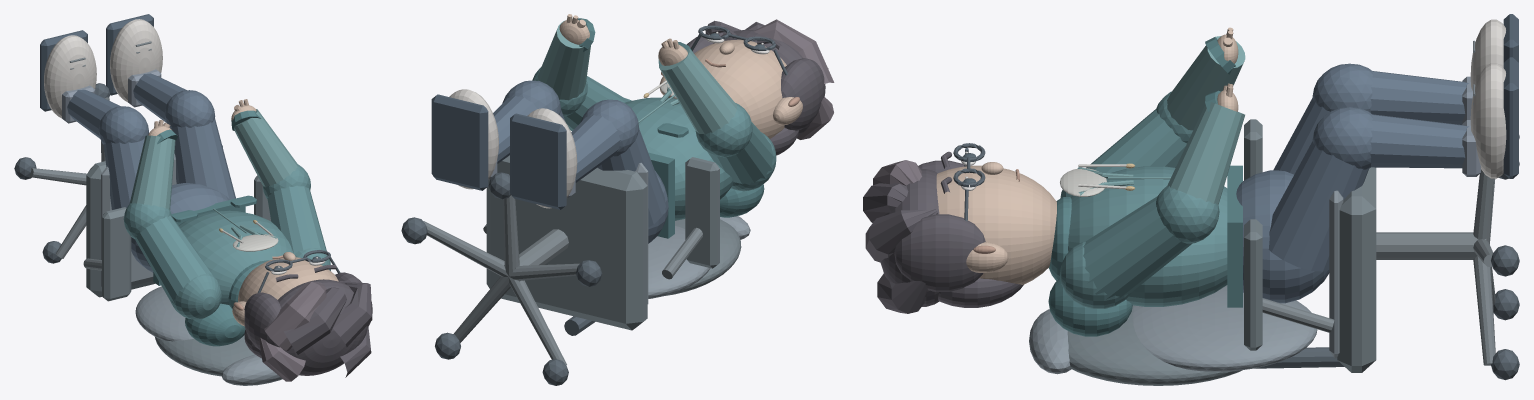
Rendered from 03_developer_typing.glb.
3 views of the same model, side by side, from view 1: azimuth 30°, elevation 25°; view 2: azimuth 150°, elevation 25°; view 3: azimuth 270°, elevation 25° (orthographic). The views are drawn at different scales.
Visible parts, largest first — view 1: 0022__hoodie_main_torso, 0089__sleeve_upper, 0078__jeans_thigh, 0072__sneaker, 0082__sneaker, 0098__sleeve_upper, 0100__sleeve_forearm, 0091__sleeve_forearm, 0019__armrest_cushion, 0044__hair_crown, 0015__backrest_upper, 0039__face_head (+32 smaller); view 2: 0011__chair_base_seat, 0083__rubber_sole, 0073__rubber_sole, 0039__face_head, 0022__hoodie_main_torso, 0091__sleeve_forearm, 0019__armrest_cushion, 0100__sleeve_forearm, 0014__lumbar_support, 0046__temple_side, 0070__jeans_shin, 0089__sleeve_upper (+35 smaller); view 3: 0014__lumbar_support, 0022__hoodie_main_torso, 0039__face_head, 0011__chair_base_seat, 0078__jeans_thigh, 0098__sleeve_upper, 0015__backrest_upper, 0047__temple_side, 0036__pants_pelvis, 0100__sleeve_forearm, 0080__jeans_shin, 0070__jeans_shin (+36 smaller).
Part boxes in pixels (x1=…): 0022__hoodie_main_torso: x1=178, y1=210, x2=293, y2=304; 0089__sleeve_upper: x1=135, y1=215, x2=212, y2=304; 0078__jeans_thigh: x1=170, y1=119, x2=235, y2=199; 0072__sneaker: x1=44, y1=35, x2=96, y2=118; 0082__sneaker: x1=110, y1=19, x2=162, y2=102; 0098__sleeve_upper: x1=267, y1=185, x2=326, y2=254; 0100__sleeve_forearm: x1=234, y1=109, x2=297, y2=187; 0091__sleeve_forearm: x1=129, y1=135, x2=175, y2=209; 0019__armrest_cushion: x1=102, y1=207, x2=131, y2=301; 0044__hair_crown: x1=278, y1=279, x2=367, y2=375; 0015__backrest_upper: x1=155, y1=335, x2=254, y2=376; 0039__face_head: x1=238, y1=257, x2=338, y2=301; 0011__chair_base_seat: x1=486, y1=155, x2=647, y2=330; 0083__rubber_sole: x1=431, y1=94, x2=488, y2=190; 0073__rubber_sole: x1=510, y1=113, x2=566, y2=209; 0039__face_head: x1=668, y1=39, x2=786, y2=138; 0022__hoodie_main_torso: x1=624, y1=97, x2=733, y2=220; 0091__sleeve_forearm: x1=659, y1=47, x2=736, y2=134; 0019__armrest_cushion: x1=685, y1=157, x2=719, y2=268; 0100__sleeve_forearm: x1=537, y1=20, x2=590, y2=100; 0014__lumbar_support: x1=648, y1=225, x2=710, y2=298; 0046__temple_side: x1=781, y1=58, x2=825, y2=130; 0070__jeans_shin: x1=571, y1=115, x2=620, y2=182; 0089__sleeve_upper: x1=708, y1=122, x2=774, y2=184; 0014__lumbar_support: x1=1132, y1=285, x2=1317, y2=371; 0022__hoodie_main_torso: x1=1068, y1=166, x2=1227, y2=306; 0039__face_head: x1=936, y1=165, x2=1056, y2=284; 0011__chair_base_seat: x1=1337, y1=167, x2=1376, y2=372; 0078__jeans_thigh: x1=1268, y1=141, x2=1368, y2=271; 0098__sleeve_upper: x1=1083, y1=196, x2=1192, y2=299; 0015__backrest_upper: x1=1067, y1=305, x2=1242, y2=385; 0047__temple_side: x1=894, y1=214, x2=985, y2=291; 0036__pants_pelvis: x1=1236, y1=170, x2=1329, y2=303; 0100__sleeve_forearm: x1=1167, y1=102, x2=1244, y2=204; 0080__jeans_shin: x1=1370, y1=114, x2=1468, y2=168; 0070__jeans_shin: x1=1370, y1=71, x2=1468, y2=124.
Size of the model in its own units: 0.794 by 1.01 by 1.85.
